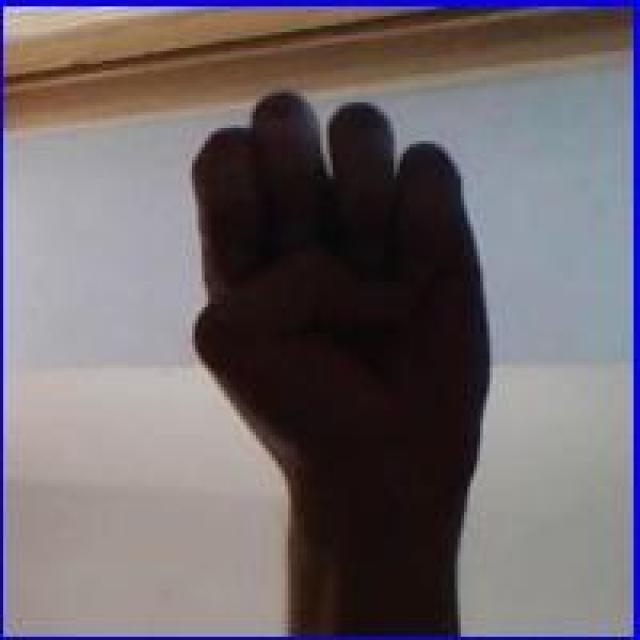E: (186, 82, 499, 494)
